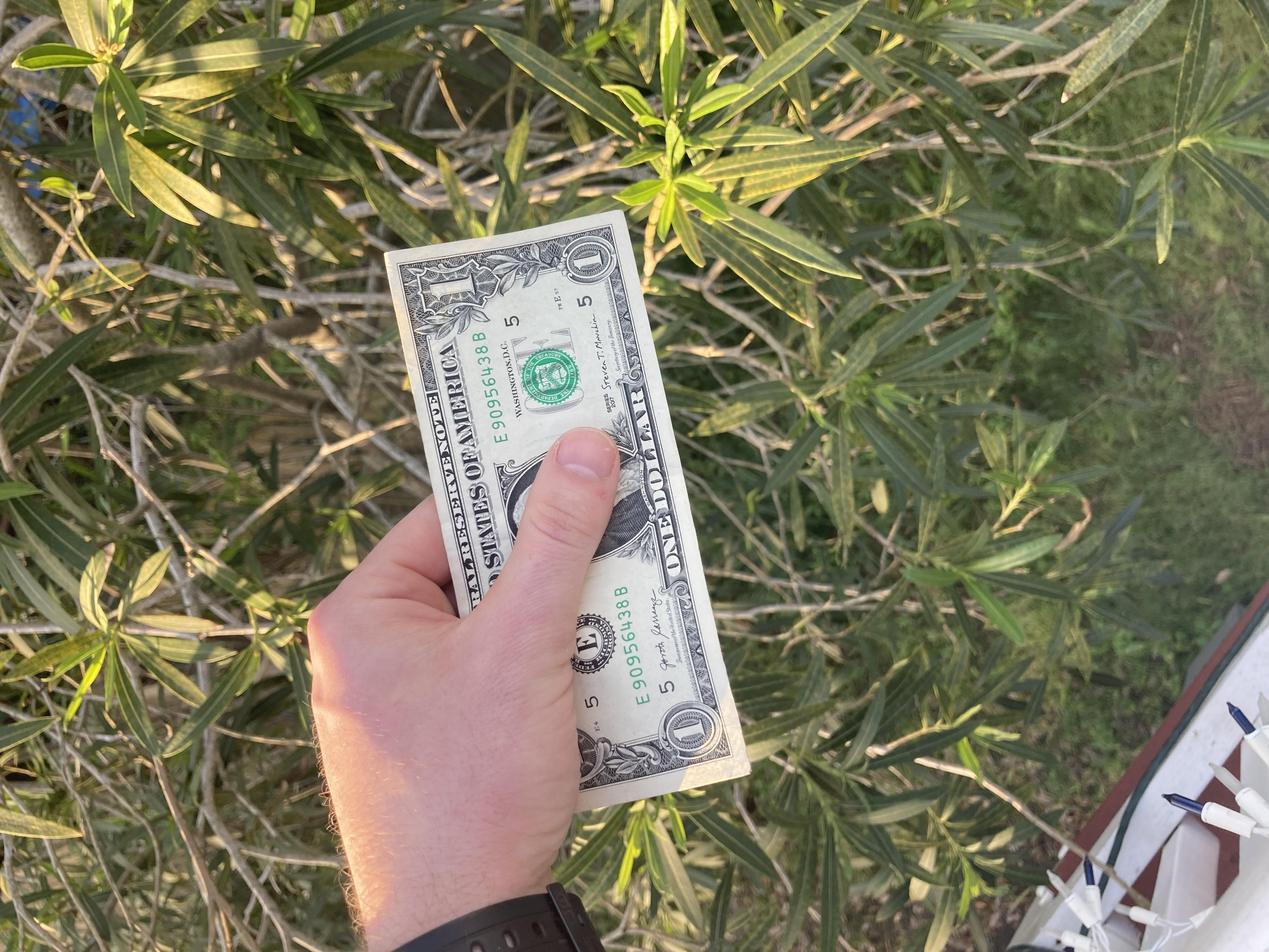one-front: (168, 287, 988, 564)
